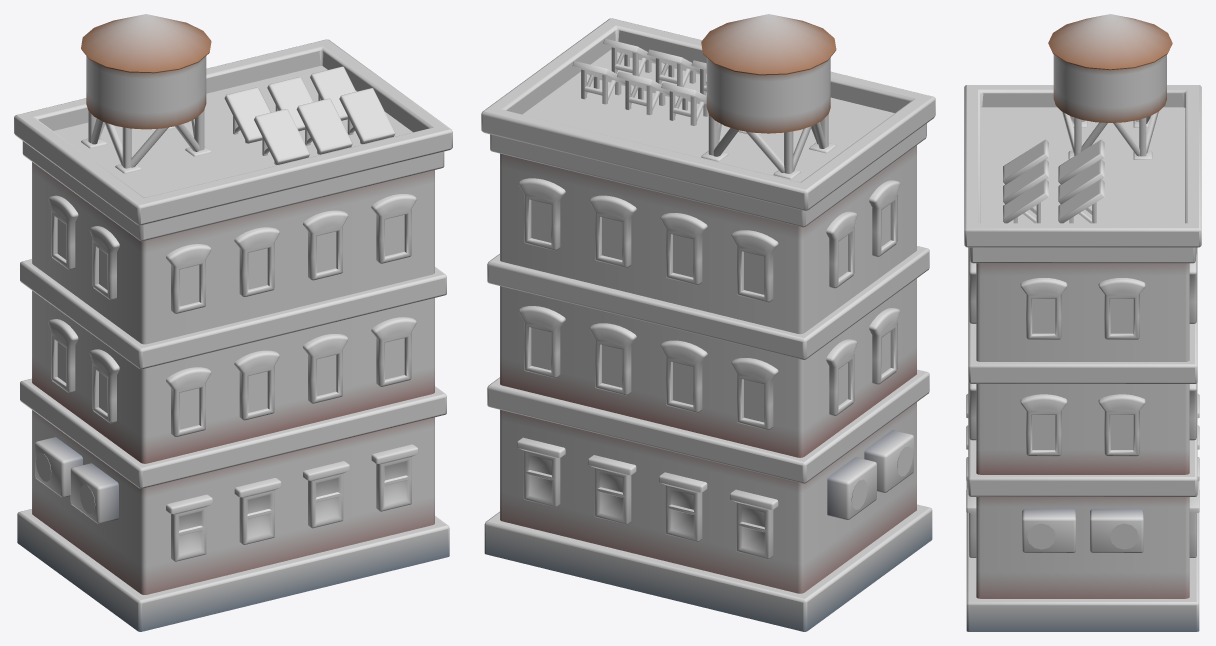
File: NF_Bld_Apartment 13.fbx
3 renders of one model, left to right at view 1: azimuth 30°, elevation 25°; view 2: azimuth 150°, elevation 25°; view 3: azimuth 270°, elevation 25°, orthographic. The views are drawn at different scales.
Parts seen in each view (by area): view 1: Apart_13; view 2: Apart_13; view 3: Apart_13.
Part boxes in pixels (x1,y1,x2,y2): Apart_13: (14,14,452,631); Apart_13: (481,14,935,631); Apart_13: (964,14,1201,631).
Size of the model in its own units: 10.3 by 15.9 by 6.67.
